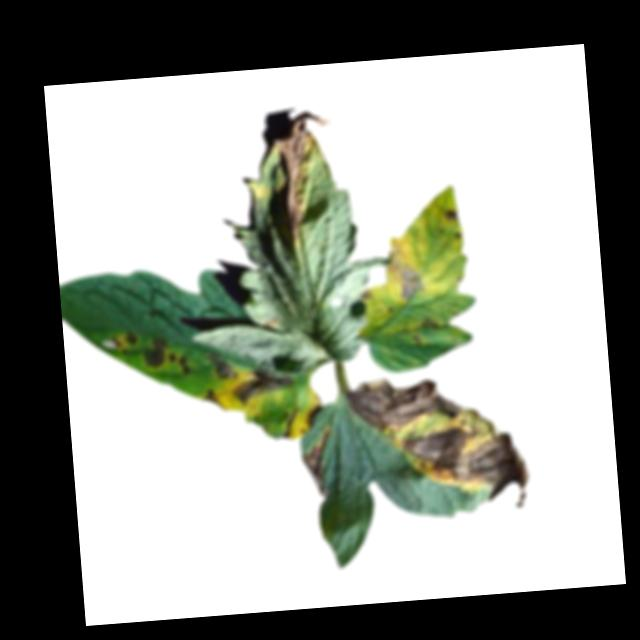Early_blight: (385, 422, 534, 519), (340, 369, 489, 436), (271, 109, 341, 244), (232, 363, 296, 408), (300, 429, 340, 500), (386, 246, 425, 307), (140, 337, 169, 371), (204, 351, 233, 384), (109, 331, 139, 354), (200, 384, 224, 410), (168, 351, 192, 376), (302, 404, 325, 428), (416, 314, 441, 331), (443, 208, 461, 226), (411, 332, 427, 346)
